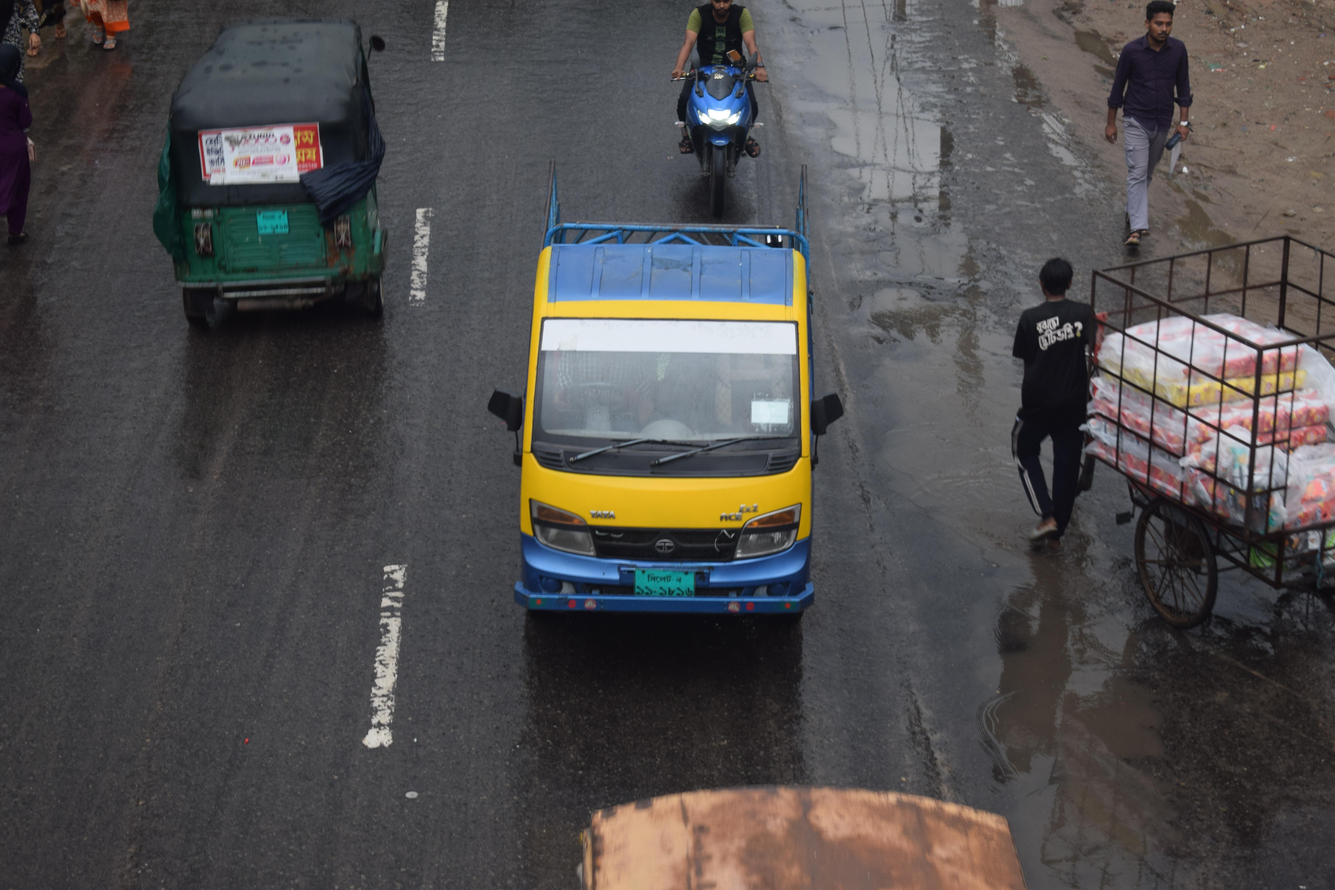Bike: (647, 0, 802, 229)
Truck: (441, 107, 908, 666)
